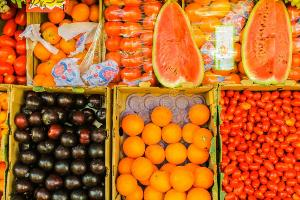orange: (109, 84, 215, 200), (35, 0, 99, 88)
plum: (13, 90, 108, 200)
tomato: (218, 86, 300, 200), (100, 1, 152, 86)
watermelon: (149, 8, 207, 88), (243, 2, 291, 84)
